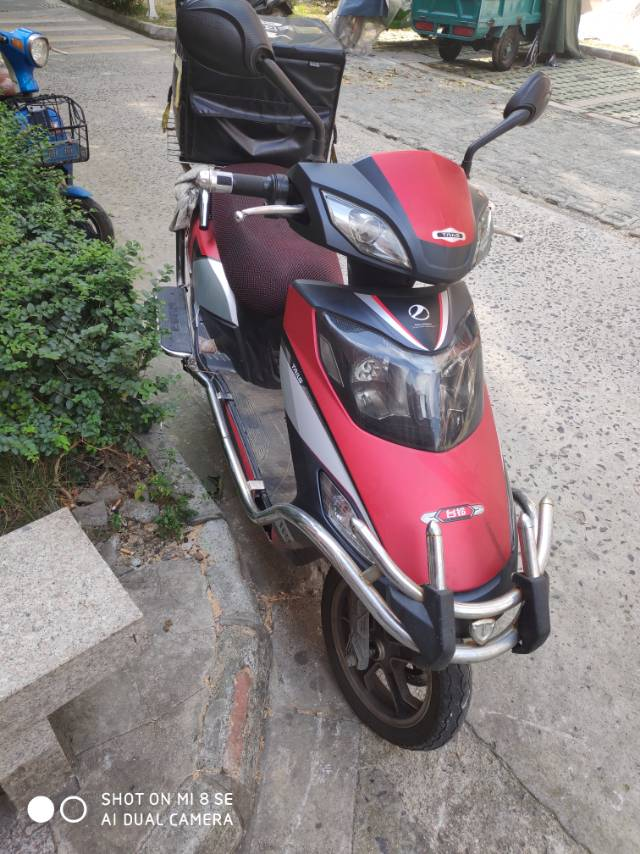电动车: (144, 1, 565, 761)
